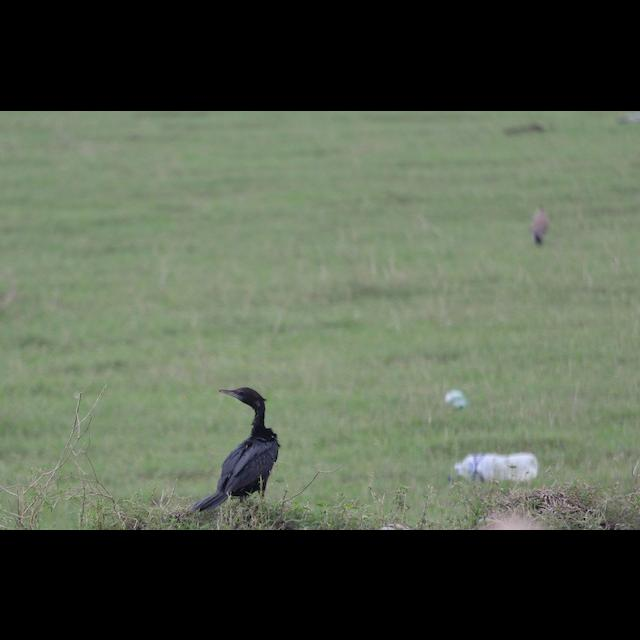cormorant: (195, 382, 289, 514)
